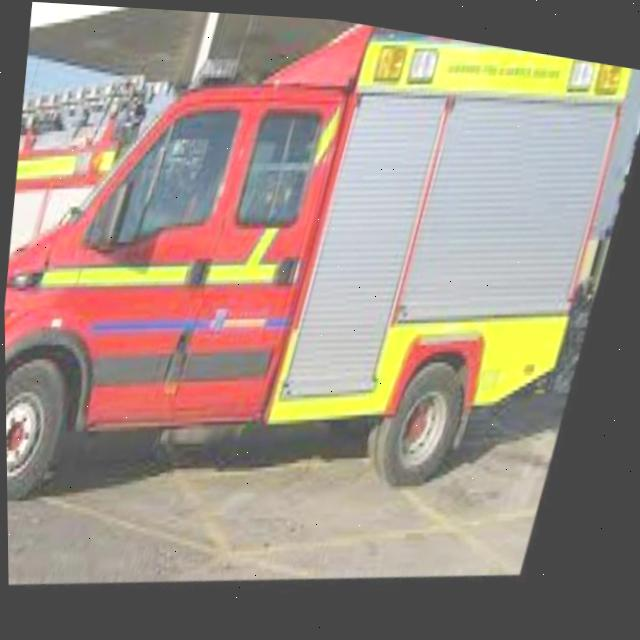emergency: (0, 0, 639, 591)
